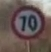limite 70: (9, 4, 45, 39)
